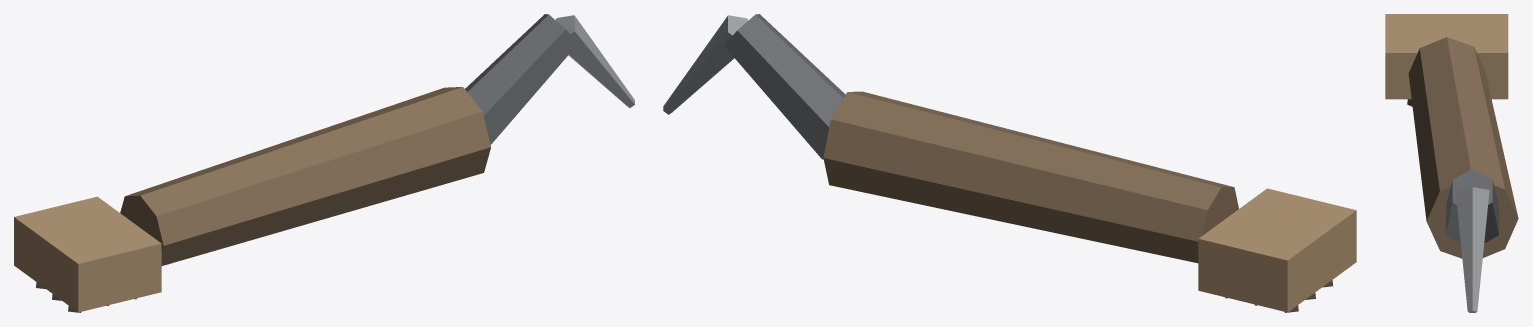
The model's file is hoof_pick.glb.
3 renders of one model, left to right at view 1: azimuth 30°, elevation 25°; view 2: azimuth 150°, elevation 25°; view 3: azimuth 270°, elevation 25°, orthographic. The views are drawn at different scales.
Visible parts, largest first — view 1: hoof_pick; view 2: hoof_pick; view 3: hoof_pick.
Boxes of the visible parts, x1,y1,x2,y2 form: hoof_pick: [14, 14, 634, 312]; hoof_pick: [663, 14, 1356, 312]; hoof_pick: [1385, 14, 1518, 312].
Size of the model in its own units: 0.2596 by 0.0622 by 0.052.
